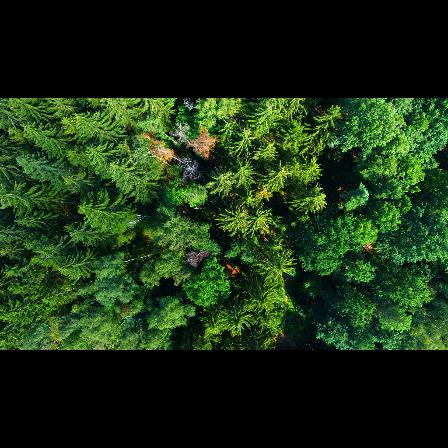Dead: (173, 157, 207, 183), (166, 121, 196, 149), (184, 249, 212, 267)
